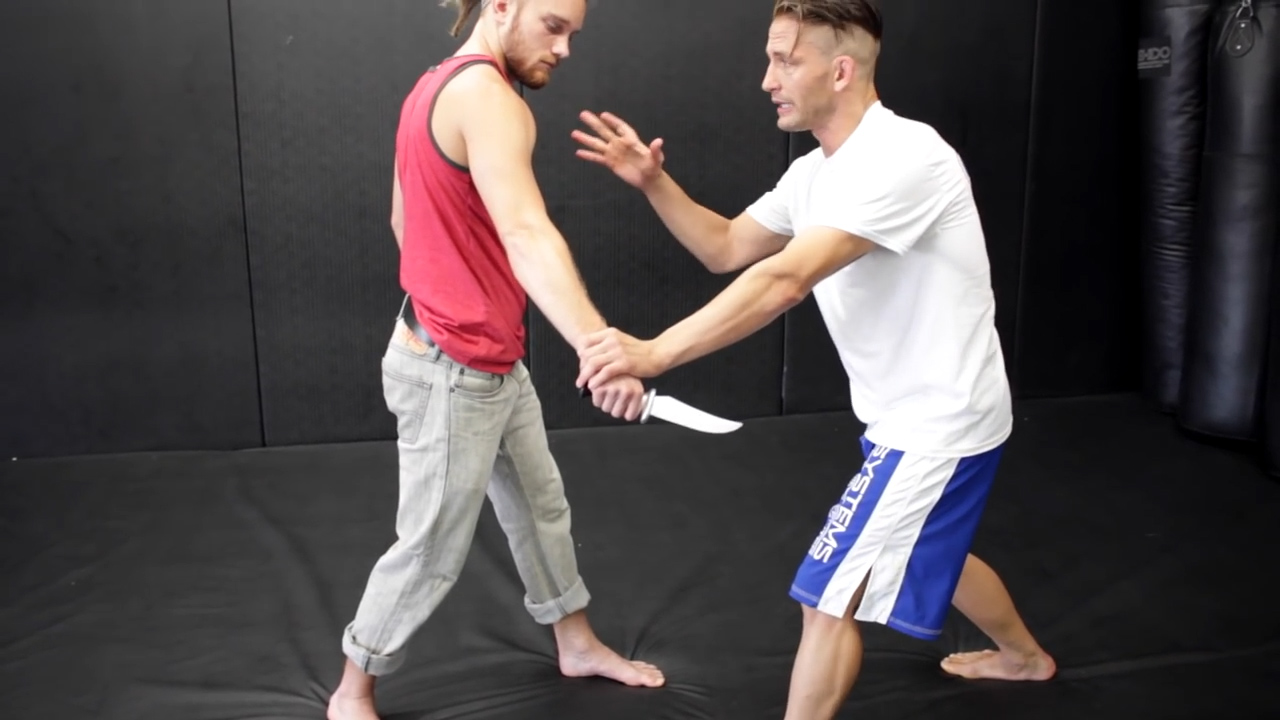knife: (572, 377, 752, 446)
